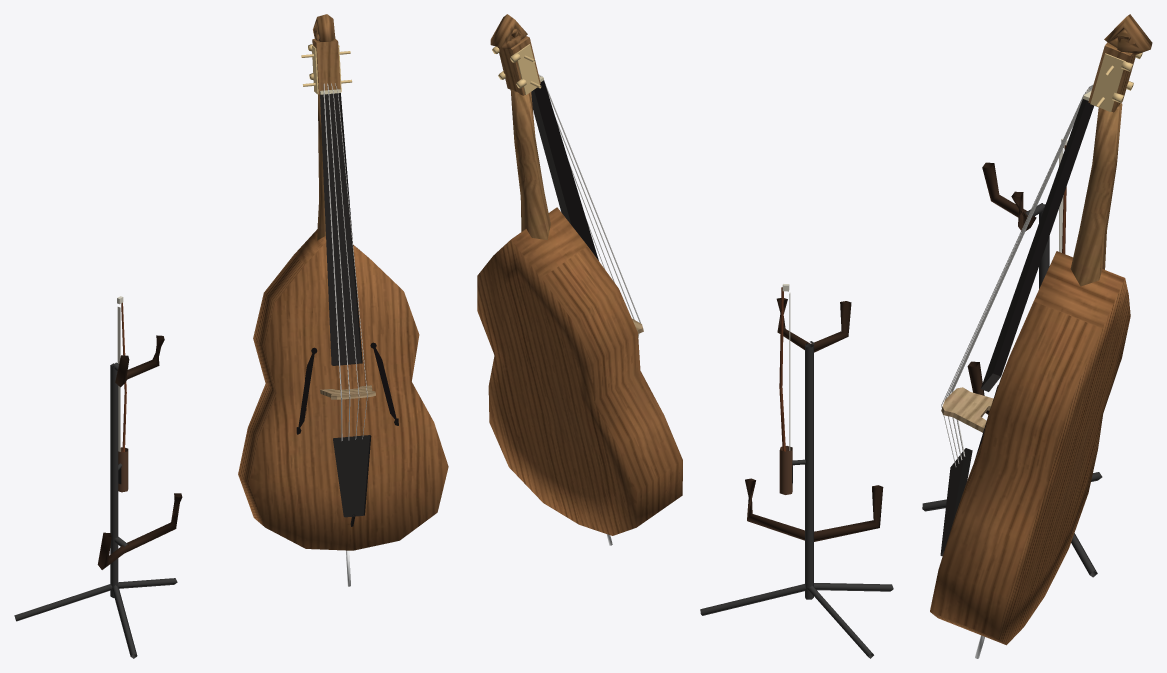
The model's file is instr_bass.lite.glb.
3 renders of one model, left to right at view 1: azimuth 30°, elevation 25°; view 2: azimuth 150°, elevation 25°; view 3: azimuth 270°, elevation 25°, orthographic. The views are drawn at different scales.
Parts seen in each view (by area): view 1: bass_wood, bass_ebony, bassstand_blackmetal, bassstand_leather, bass_strings, bass_hole; view 2: bass_wood, bassstand_blackmetal, bassstand_leather, bass_ebony, bass_strings, bass_brass; view 3: bass_wood, bass_ebony, bass_strings, bassstand_leather, bass_brass, bassstand_blackmetal.
Boxes of the visible parts, x1,y1,x2,y2 form: bass_wood: (238, 14, 448, 550); bass_ebony: (320, 93, 371, 526); bassstand_blackmetal: (14, 362, 177, 658); bassstand_leather: (97, 335, 182, 569); bass_strings: (323, 83, 367, 441); bass_hole: (296, 342, 398, 434); bass_wood: (477, 14, 682, 535); bassstand_blackmetal: (700, 341, 893, 658); bassstand_leather: (745, 298, 883, 541); bass_ebony: (531, 80, 598, 260); bass_strings: (538, 74, 640, 337); bass_brass: (492, 44, 541, 94); bass_wood: (930, 14, 1152, 645); bass_ebony: (940, 99, 1093, 556); bass_strings: (941, 84, 1093, 467); bassstand_leather: (967, 162, 1036, 414); bass_brass: (1090, 52, 1142, 111); bassstand_blackmetal: (922, 203, 1102, 577).
Size of the model in its own units: 1.52 by 1.96 by 0.6155.
10 materials, 1 textured.
